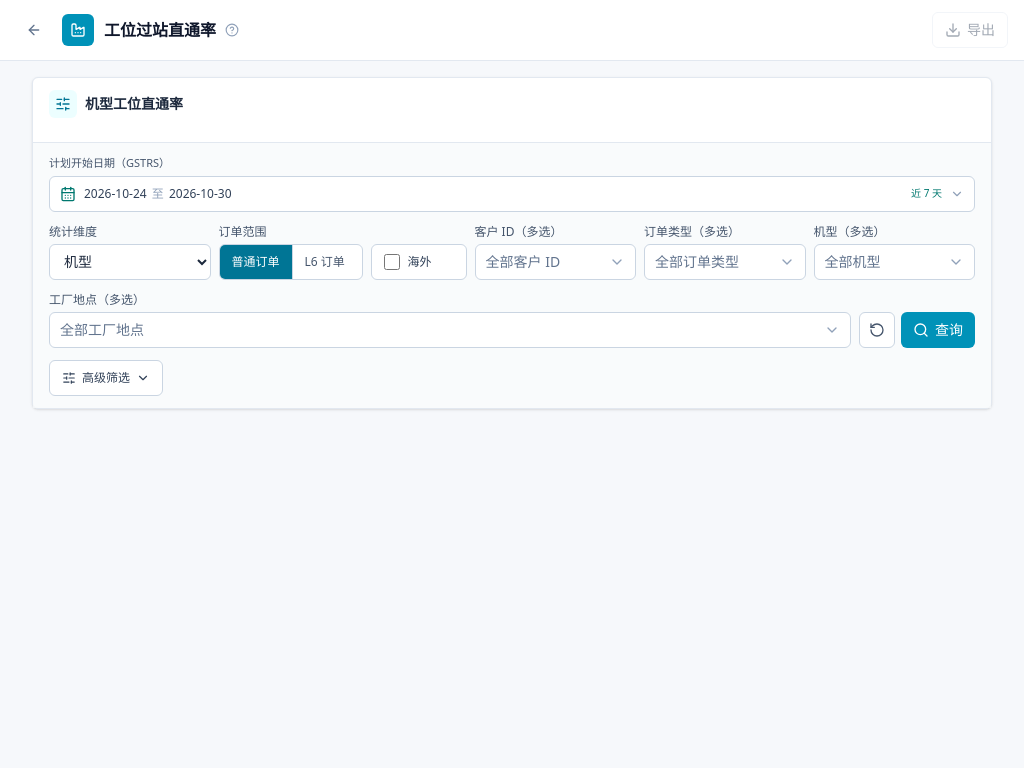
StationPassRatePage customer filter › uses shared station selection for ordinary users and hides editing
Click the button "查询".
click(938, 330)  # box [901,312,975,348]
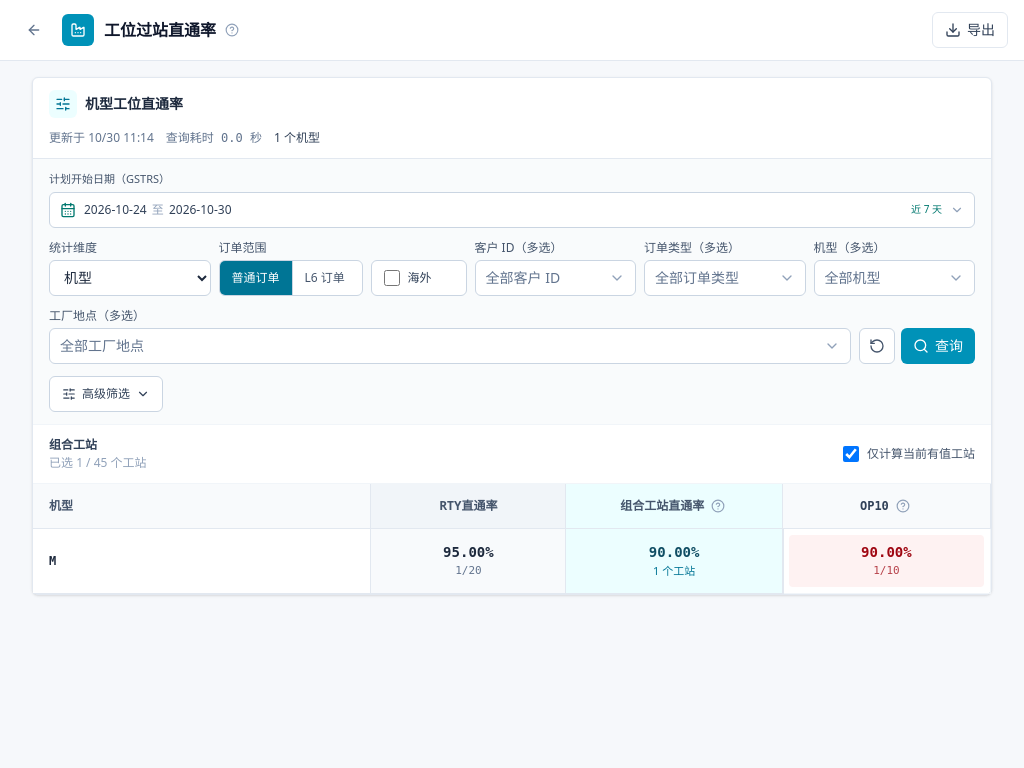
Expected: the text "已选 1 / 45 个工站" is shown, [49,454,147,470]
